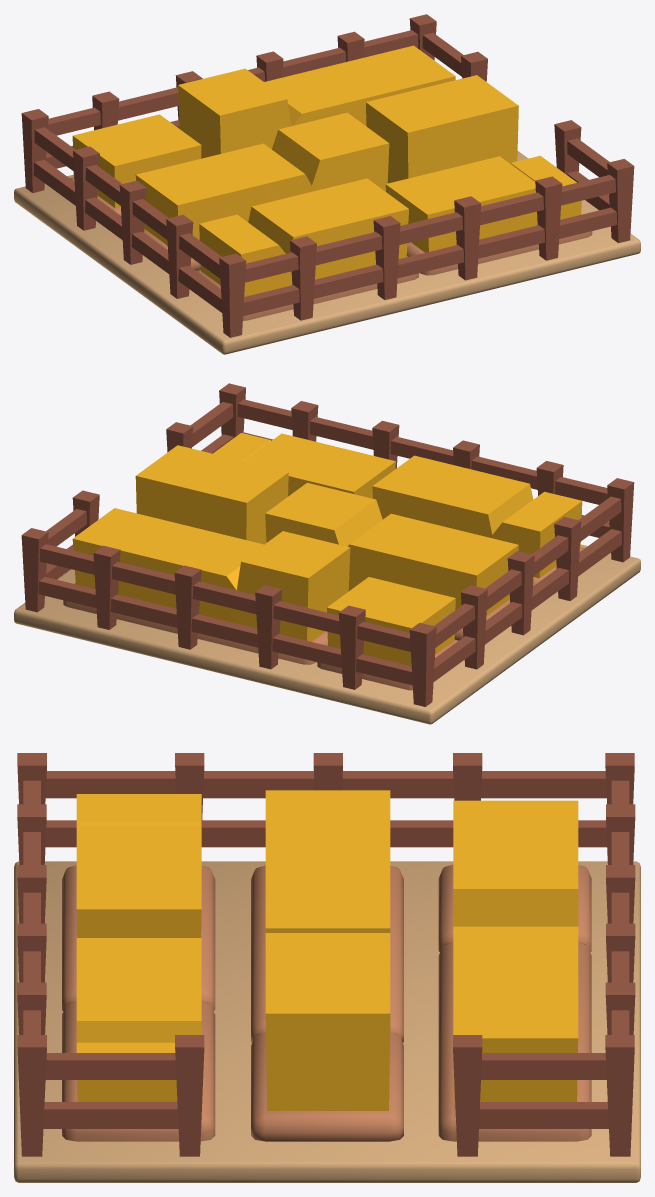
The model's file is farm_plot.gltf.glb.
3 views of the same model, one above another, from view 1: azimuth 30°, elevation 25°; view 2: azimuth 150°, elevation 25°; view 3: azimuth 270°, elevation 25° (orthographic). The views are drawn at different scales.
Parts seen in each view (by area): view 1: farm_wheat, farm_plot; view 2: farm_plot, farm_wheat; view 3: farm_plot, farm_wheat.
Part boxes in pixels (x1,y1,x2,y2): farm_wheat: (72,45,581,296); farm_plot: (14,14,640,354); farm_plot: (14,383,640,724); farm_wheat: (72,433,582,666); farm_plot: (14,753,640,1182); farm_wheat: (76,790,578,1110).
Size of the model in its own units: 48256 by 11687 by 42047.
